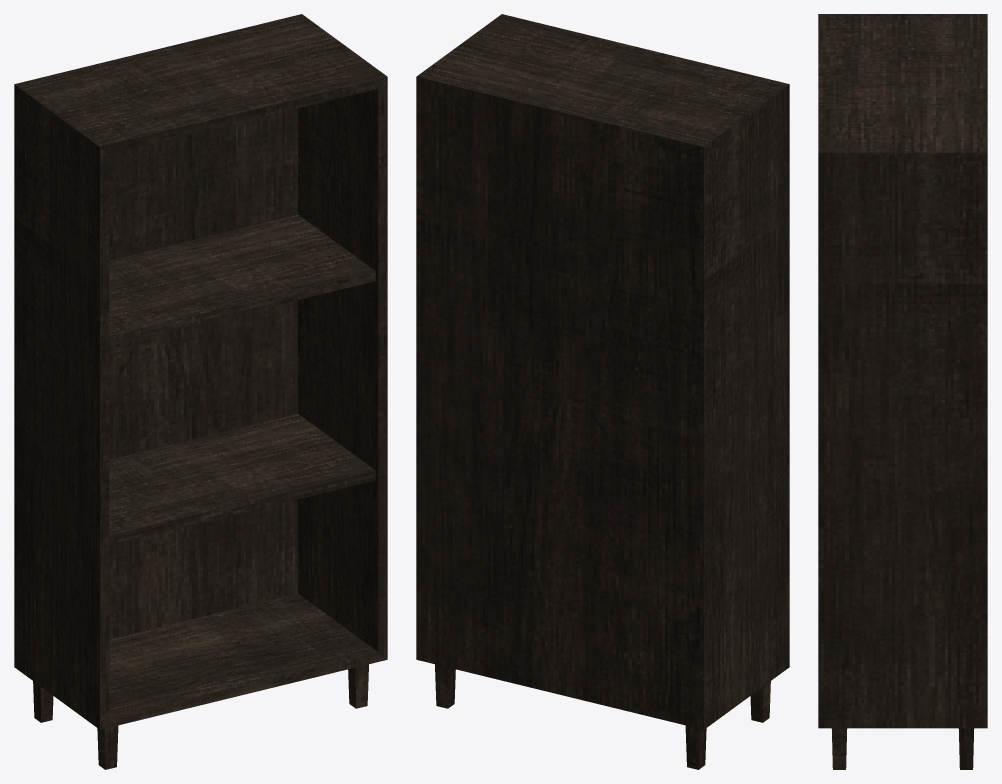
File: shelf_mp_2_2.glb
3 views of the same model, side by side, from view 1: azimuth 30°, elevation 25°; view 2: azimuth 150°, elevation 25°; view 3: azimuth 270°, elevation 25° (orthographic).
Visible parts, largest first — view 1: shelf_mp_2_2; view 2: shelf_mp_2_2; view 3: shelf_mp_2_2.
Boxes of the visible parts, x1,y1,x2,y2 form: shelf_mp_2_2: [14, 14, 387, 769]; shelf_mp_2_2: [416, 14, 789, 769]; shelf_mp_2_2: [818, 14, 987, 769].
Size of the model in its own units: 0.62 by 1.3 by 0.32.
1 material, 1 textured.
